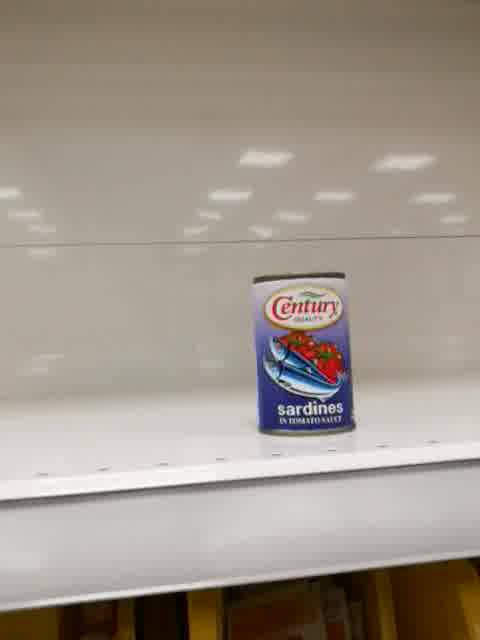sardine: (251, 270, 357, 439)
